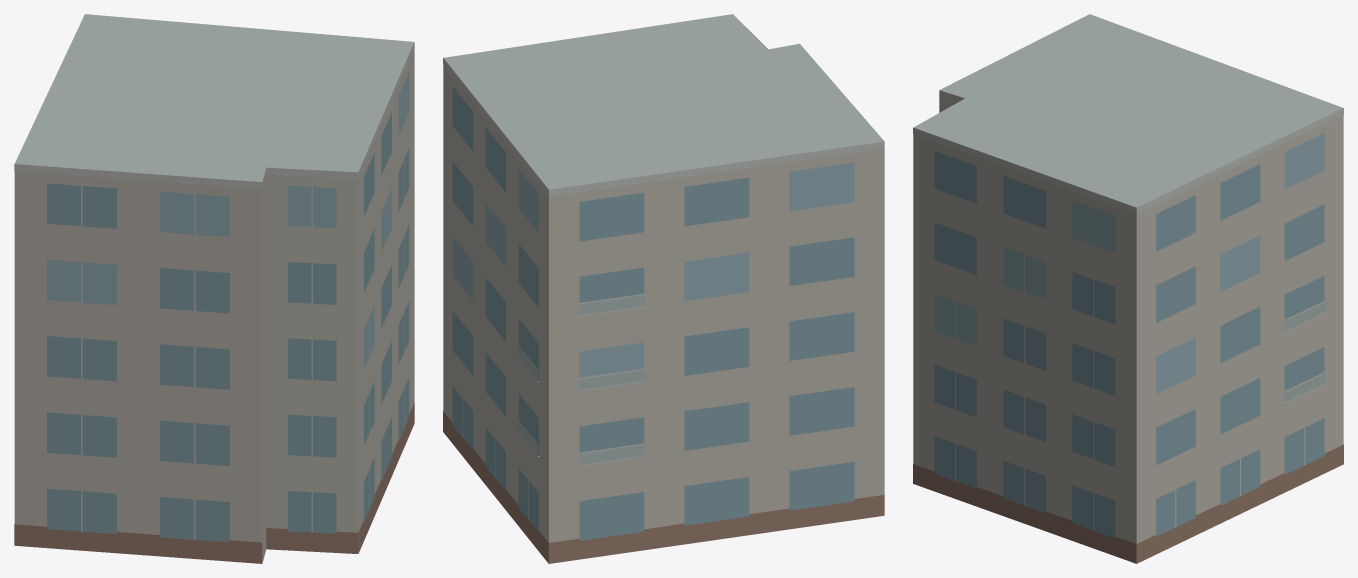
The model's file is survey-upis-32659677.glb.
The picture shows the model from 3 angles, left to right: view 1: azimuth 30°, elevation 25°; view 2: azimuth 150°, elevation 25°; view 3: azimuth 270°, elevation 25°; orthographic projection. The views are drawn at different scales.
Visible parts, largest first — view 1: survey-upis-32659677.tmp; view 2: survey-upis-32659677.tmp; view 3: survey-upis-32659677.tmp.
Boxes of the visible parts, x1,y1,x2,y2 form: survey-upis-32659677.tmp: [14, 14, 414, 563]; survey-upis-32659677.tmp: [443, 14, 884, 563]; survey-upis-32659677.tmp: [913, 14, 1343, 563].
Bounding box in the file's own units: 15.46 × 13.25 × 14.52.
